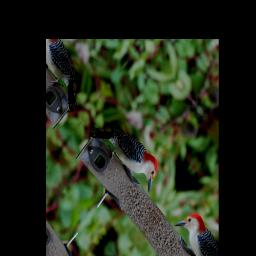Woodpecker: (84, 99, 166, 205)
